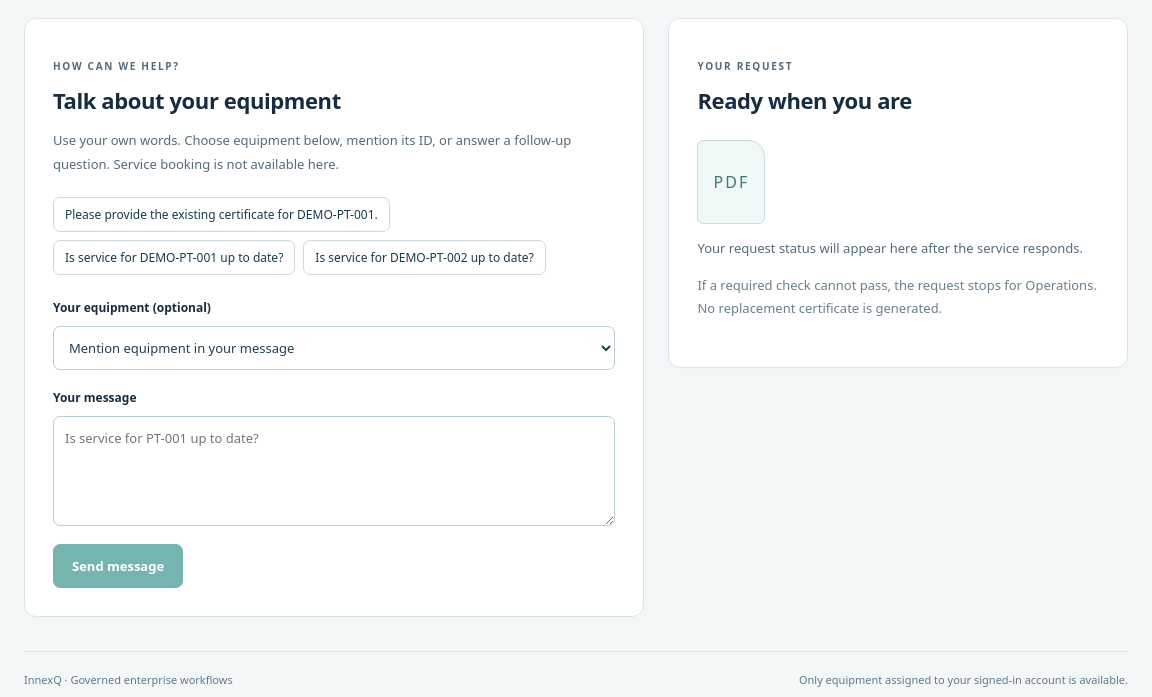
Test: CustomerPortal › retries an uncertain message with the same id and never automatically confirms
The width and height of the screenshot is (1152, 697).
(page scrolled)
Step 1. Type "Please send my existing certificate." into the text box labelled "Your message" → (334, 471), box [53,416,615,526]
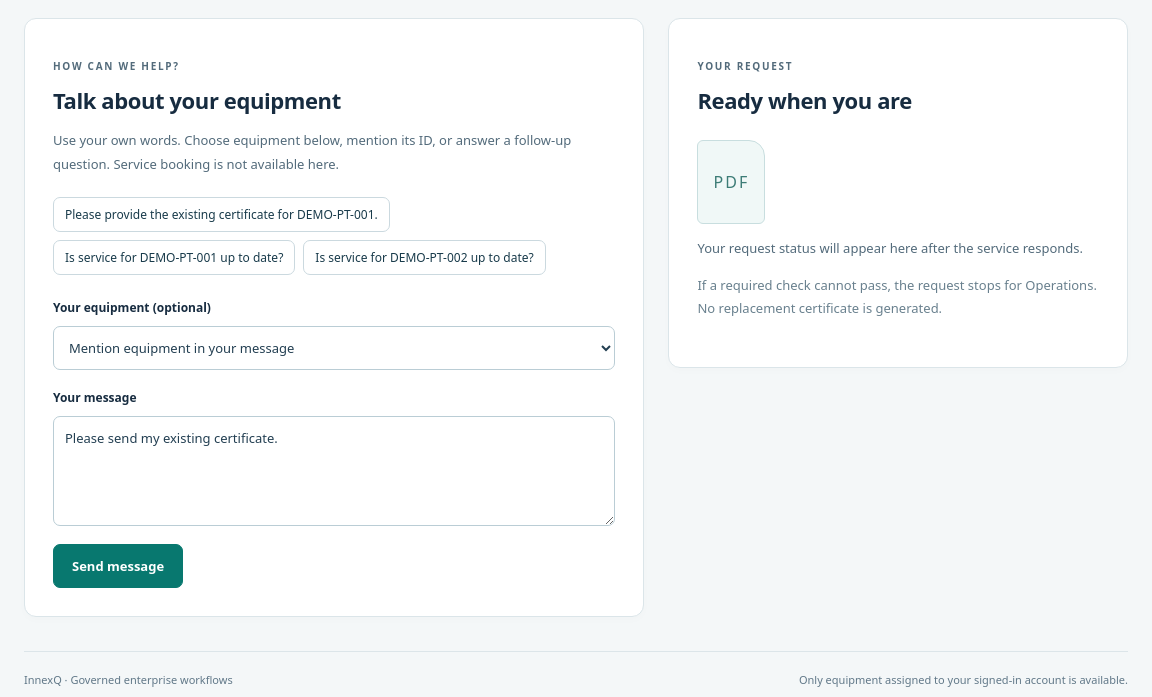
Step 2. Click the button "Send message" → (118, 566), box [53,544,183,588]
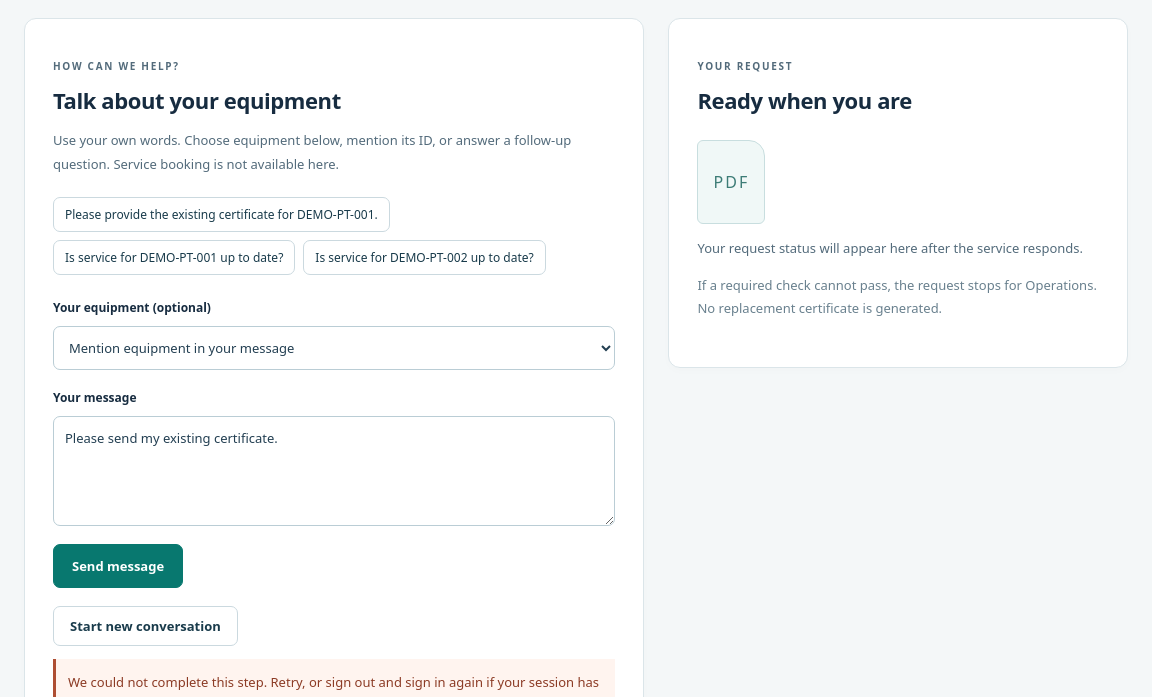
Step 3. Click the button "Send message" → (118, 566), box [53,544,183,588]
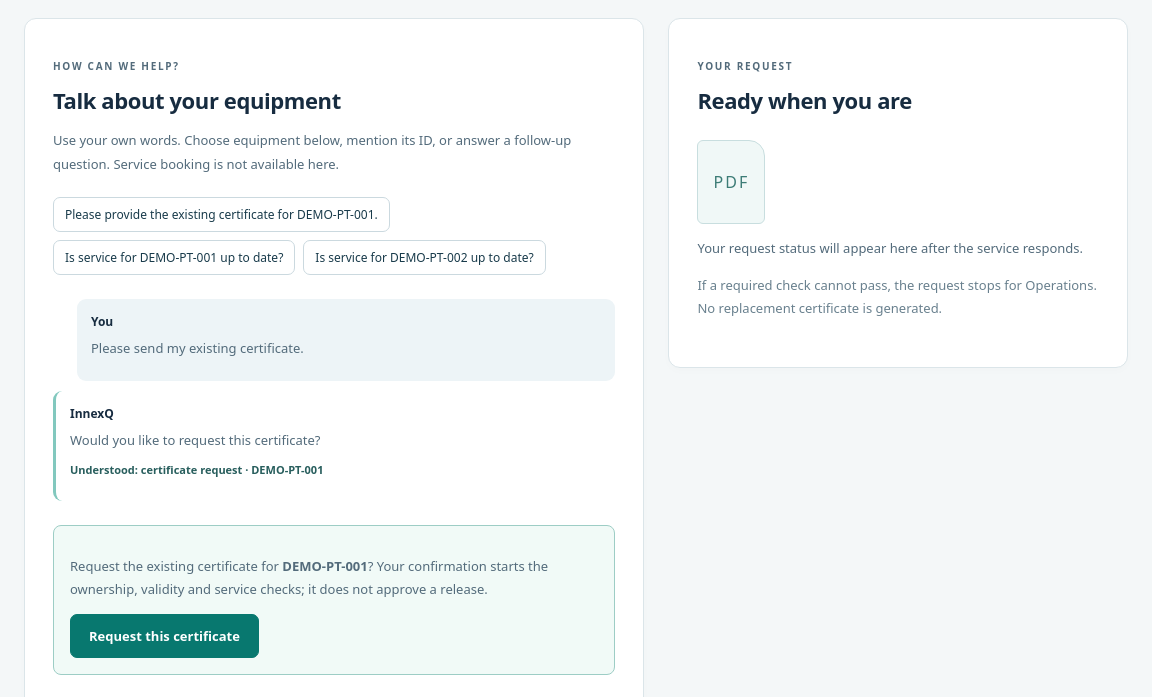
Expected: the button "Request this certificate" is shown, [70,614,259,658]
